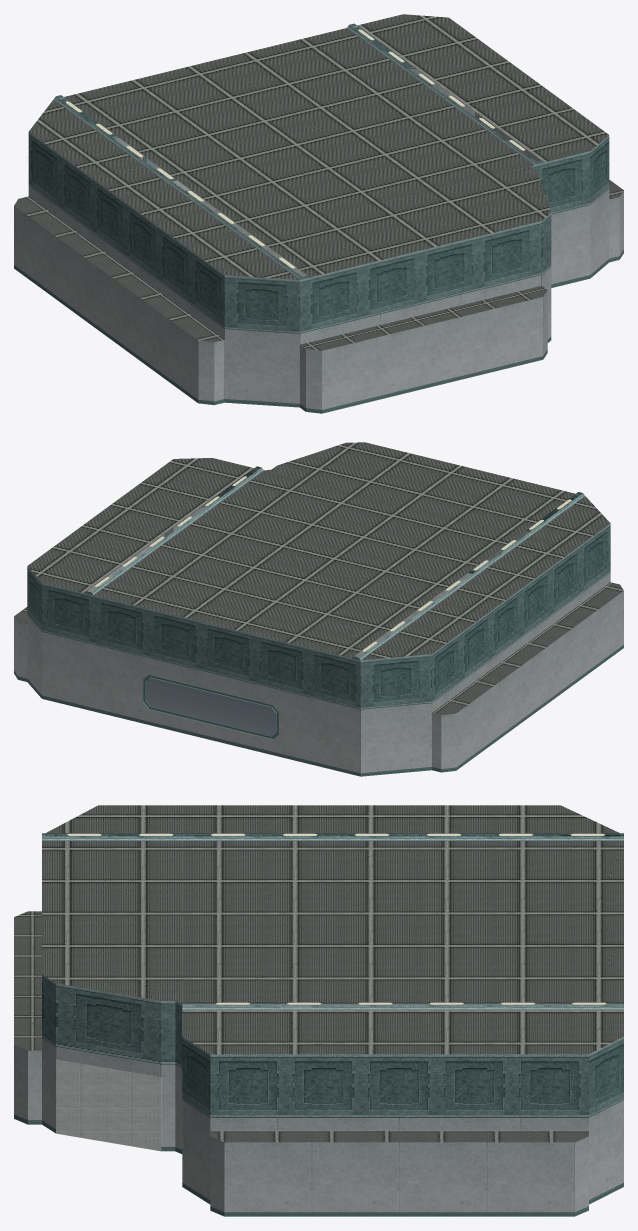
Rendered from mun_all_cloning_s01_r2_insurance_mesh.fbx.
The picture shows the model from 3 angles, top to bottom: view 1: azimuth 30°, elevation 25°; view 2: azimuth 150°, elevation 25°; view 3: azimuth 270°, elevation 25°; orthographic projection. The views are drawn at different scales.
Visible parts, largest first — view 1: mesh_node; view 2: mesh_node; view 3: mesh_node.
Boxes of the visible parts, <box> form: mesh_node: <box>14,14,623,413</box>; mesh_node: <box>14,442,623,776</box>; mesh_node: <box>14,805,623,1216</box>.
Size of the model in its own units: 23 by 6.04 by 21.75.
